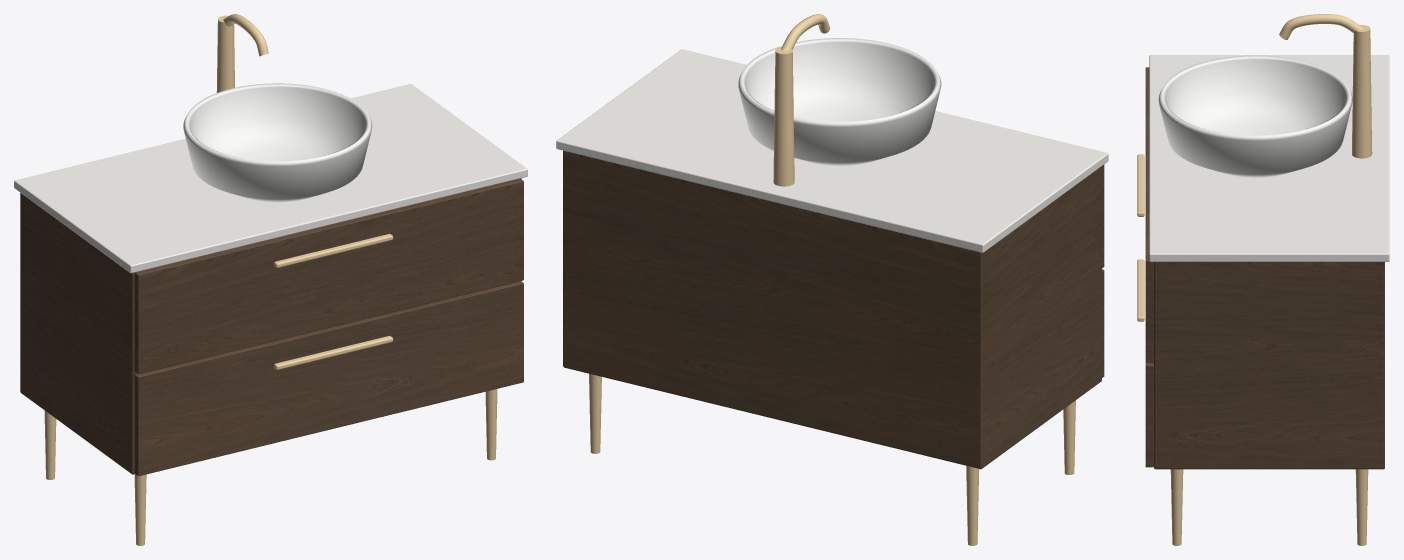
File: vanity_walnut.gltf
The picture shows the model from 3 angles, left to right: view 1: azimuth 30°, elevation 25°; view 2: azimuth 150°, elevation 25°; view 3: azimuth 270°, elevation 25°; orthographic projection. The views are drawn at different scales.
Parts seen in each view (by area): view 1: walnut_veneer, quartz_white, ceramic_glazed, brushed_brass; view 2: walnut_veneer, quartz_white, ceramic_glazed, brushed_brass; view 3: walnut_veneer, quartz_white, ceramic_glazed, brushed_brass.
Part boxes in pixels (x1,y1,x2,y2): walnut_veneer: [20, 178, 523, 476]; quartz_white: [14, 84, 527, 273]; ceramic_glazed: [183, 83, 372, 202]; brushed_brass: [44, 14, 497, 545]; walnut_veneer: [563, 150, 1104, 469]; quartz_white: [556, 49, 1108, 252]; ceramic_glazed: [738, 38, 941, 165]; brushed_brass: [589, 14, 1075, 545]; walnut_veneer: [1145, 67, 1384, 469]; quartz_white: [1149, 55, 1389, 261]; ceramic_glazed: [1158, 55, 1352, 177]; brushed_brass: [1137, 14, 1372, 545].
Bounding box in the file's own units: 1.02 × 1.05 × 0.546.
Materials: 4 (1 with a texture image).
